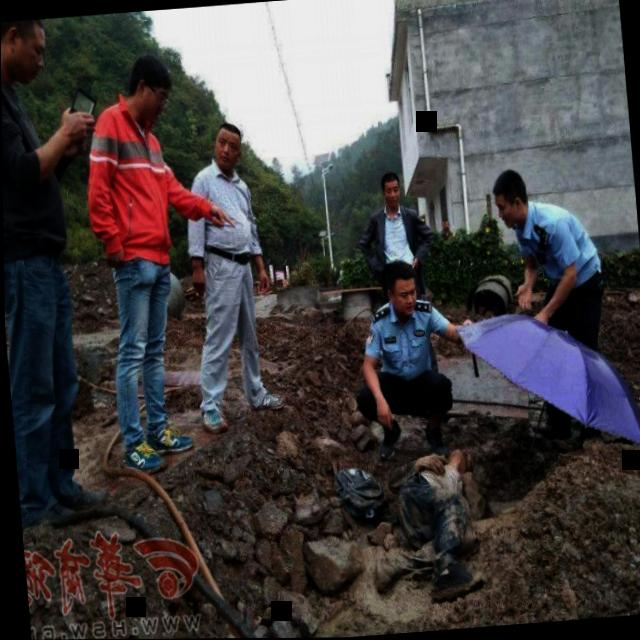Fall-Detected: (362, 423, 504, 610)
